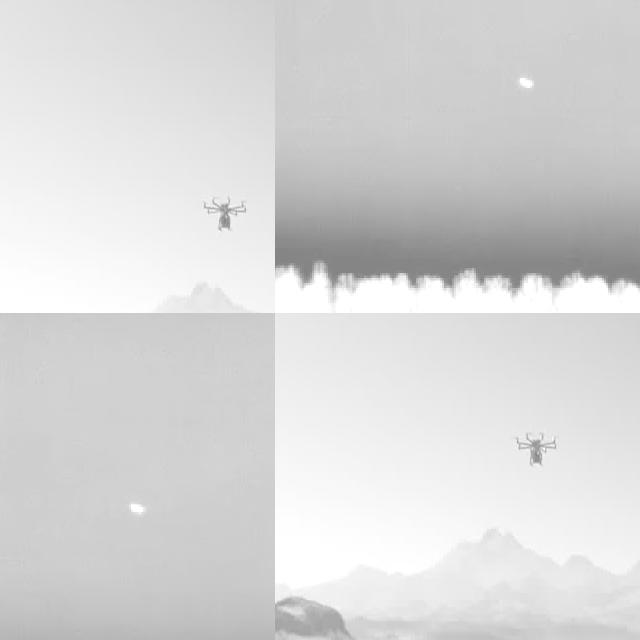1: (506, 70, 542, 100), (118, 497, 154, 527)
drone: (512, 424, 560, 473), (200, 192, 247, 236)
